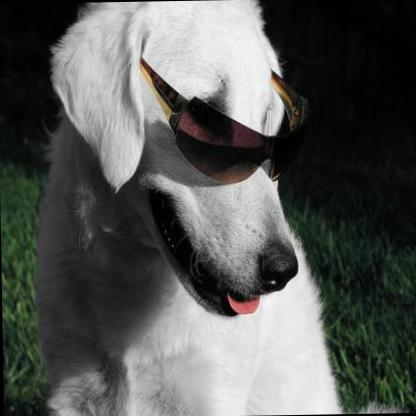kuvasz: (26, 0, 344, 416)
